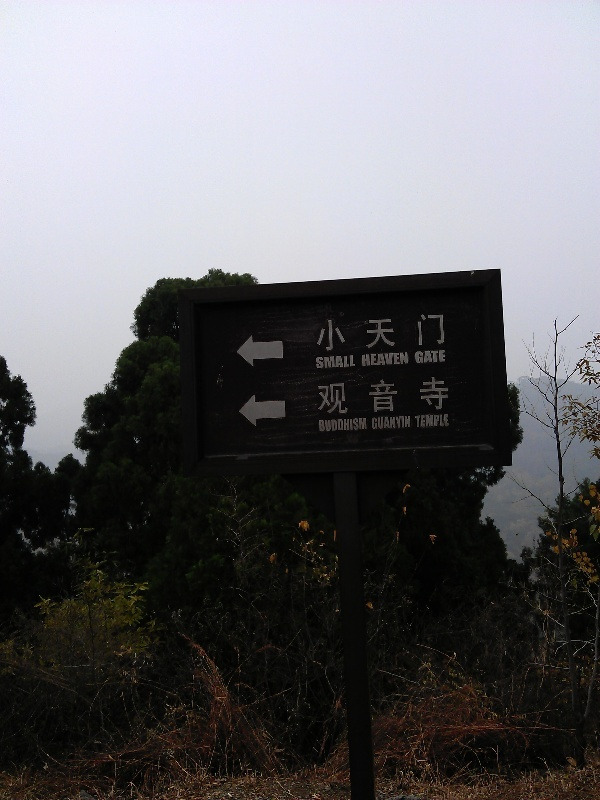text: (321, 313, 336, 353), (337, 313, 352, 353), (353, 313, 368, 353), (369, 313, 384, 353), (385, 313, 400, 353), (401, 313, 416, 353), (417, 313, 432, 353), (321, 376, 336, 416), (337, 376, 352, 416), (353, 376, 368, 416), (369, 376, 384, 416), (385, 376, 400, 416), (401, 376, 416, 416), (417, 376, 432, 416), (433, 376, 448, 416), (433, 313, 447, 353), (321, 355, 336, 370), (337, 355, 352, 370), (369, 352, 384, 367), (385, 352, 400, 367), (321, 418, 336, 432), (337, 418, 352, 432), (353, 418, 368, 432), (417, 350, 432, 364), (385, 416, 400, 430), (417, 414, 432, 428), (433, 414, 448, 428), (315, 313, 320, 353), (433, 350, 446, 364), (371, 416, 384, 430), (401, 416, 412, 430), (401, 352, 410, 367), (361, 352, 368, 367), (318, 376, 320, 416), (315, 355, 320, 370), (353, 355, 357, 370), (449, 376, 450, 416), (414, 350, 416, 364), (319, 418, 320, 432), (415, 414, 416, 428), (449, 414, 450, 428)
